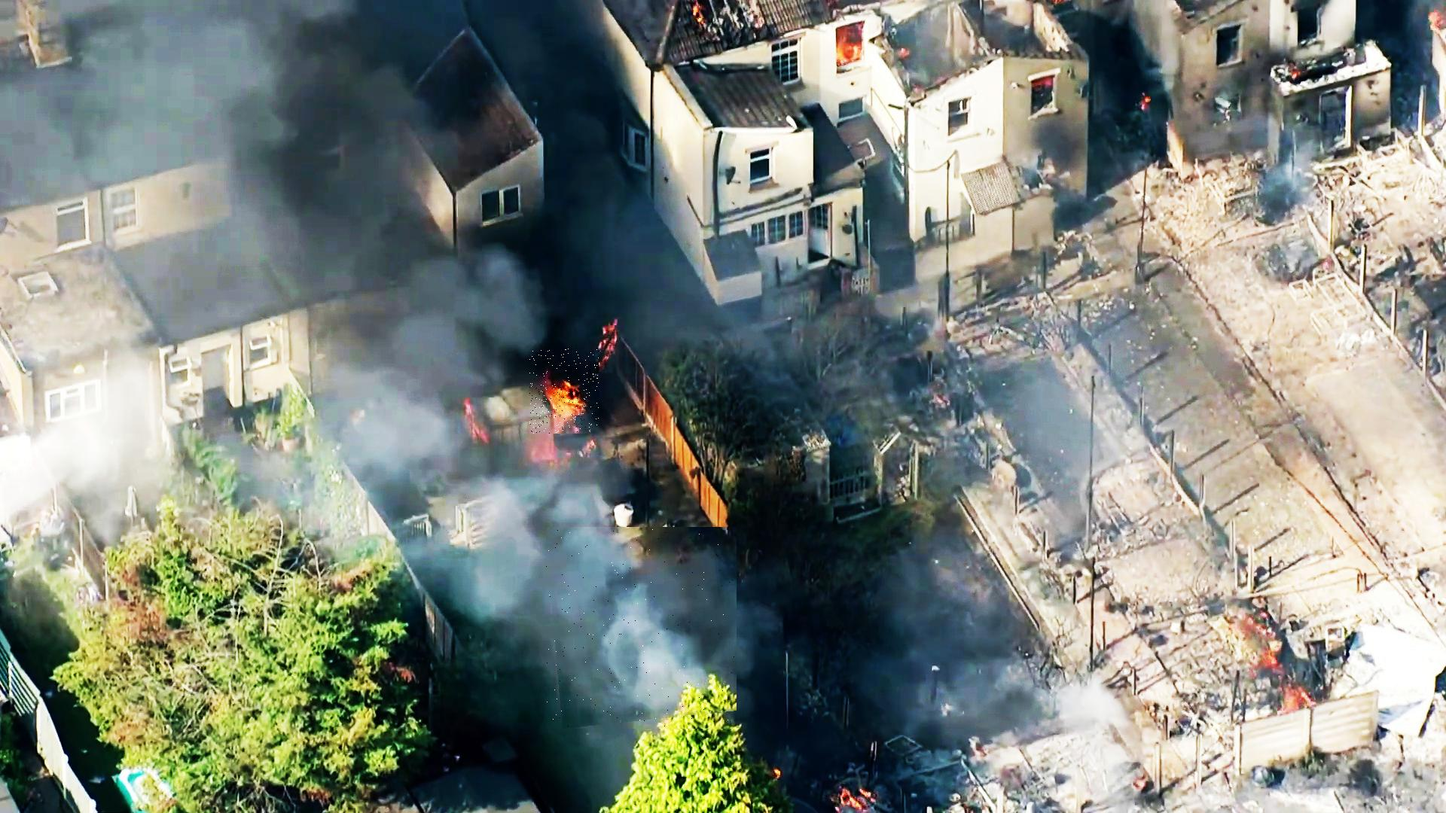fire: (529, 349, 599, 434)
smoke: (547, 527, 739, 729)
